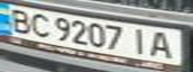0: (87, 20, 106, 48)
2: (66, 17, 90, 47)
7: (103, 22, 130, 52)
9: (48, 15, 72, 43)
A: (145, 29, 181, 60)
B: (3, 6, 36, 34)
C: (24, 10, 54, 38)
I: (127, 25, 154, 55)
